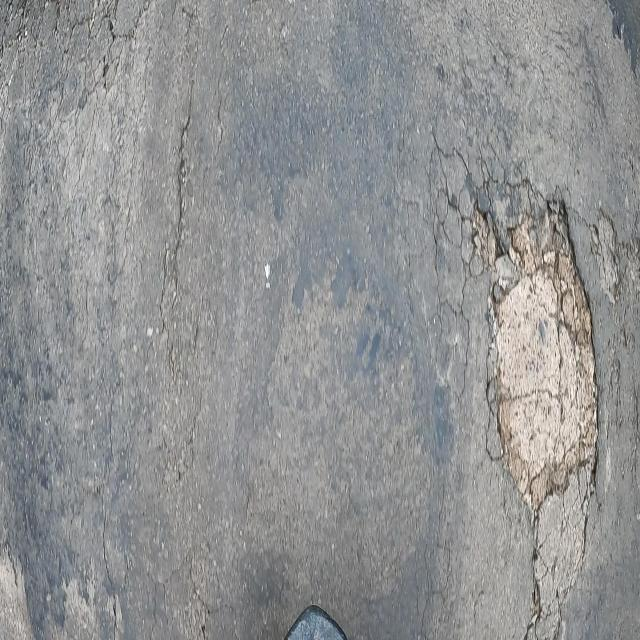Lubang: (472, 182, 598, 516)
